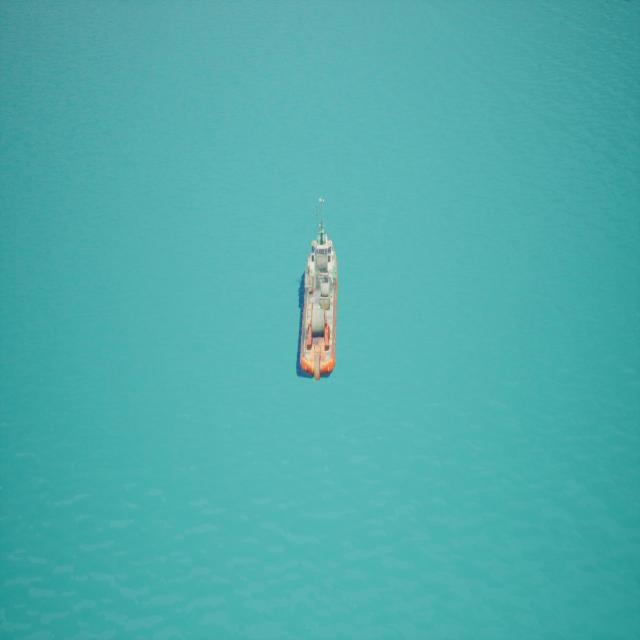tug boat: (257, 165, 354, 425)
